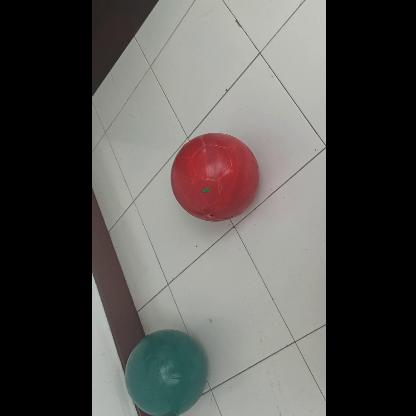red_ball: (170, 133, 256, 219)
